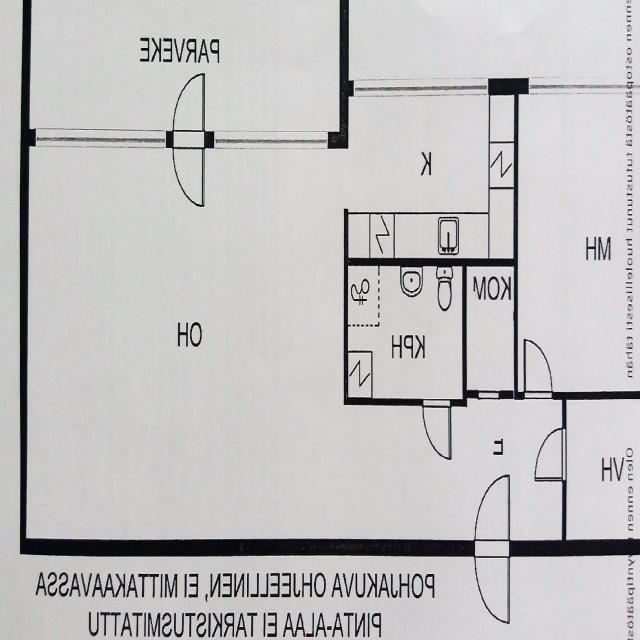door: (475, 539, 509, 615), (475, 479, 509, 555), (173, 132, 204, 204), (173, 76, 204, 148), (534, 428, 566, 479), (525, 341, 552, 398), (423, 398, 450, 454)
